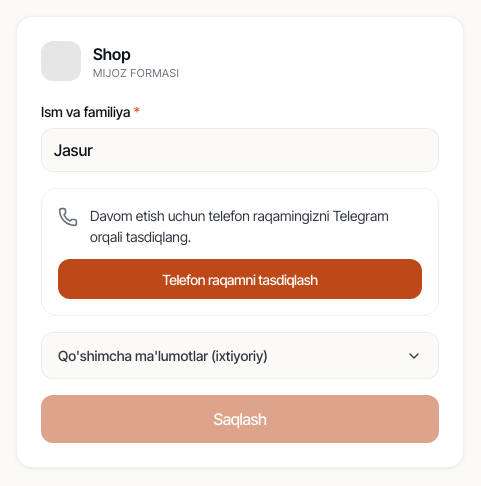
an unproved visitor is asked to prove, not to type › unlocks the form when the contact update lands
This screenshot has width=481, height=486.
Expected: the button with test id "join-submit" is disabled, [41, 395, 439, 443]
Click the button "Telefon raqamni tasdiqlash".
click(240, 279)  # box [58, 259, 422, 299]
Wait 4000 ms
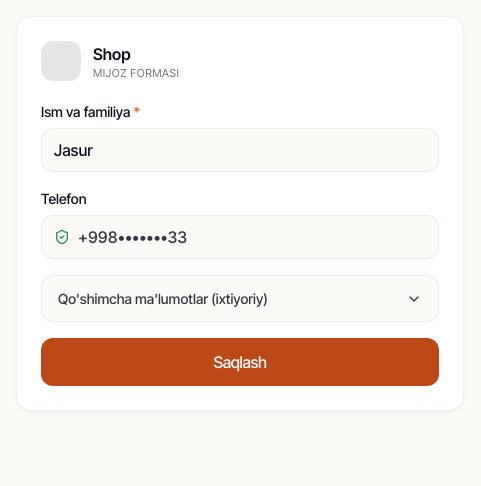
Expected: the button with test id "join-submit" is enabled, [41, 338, 439, 386]
